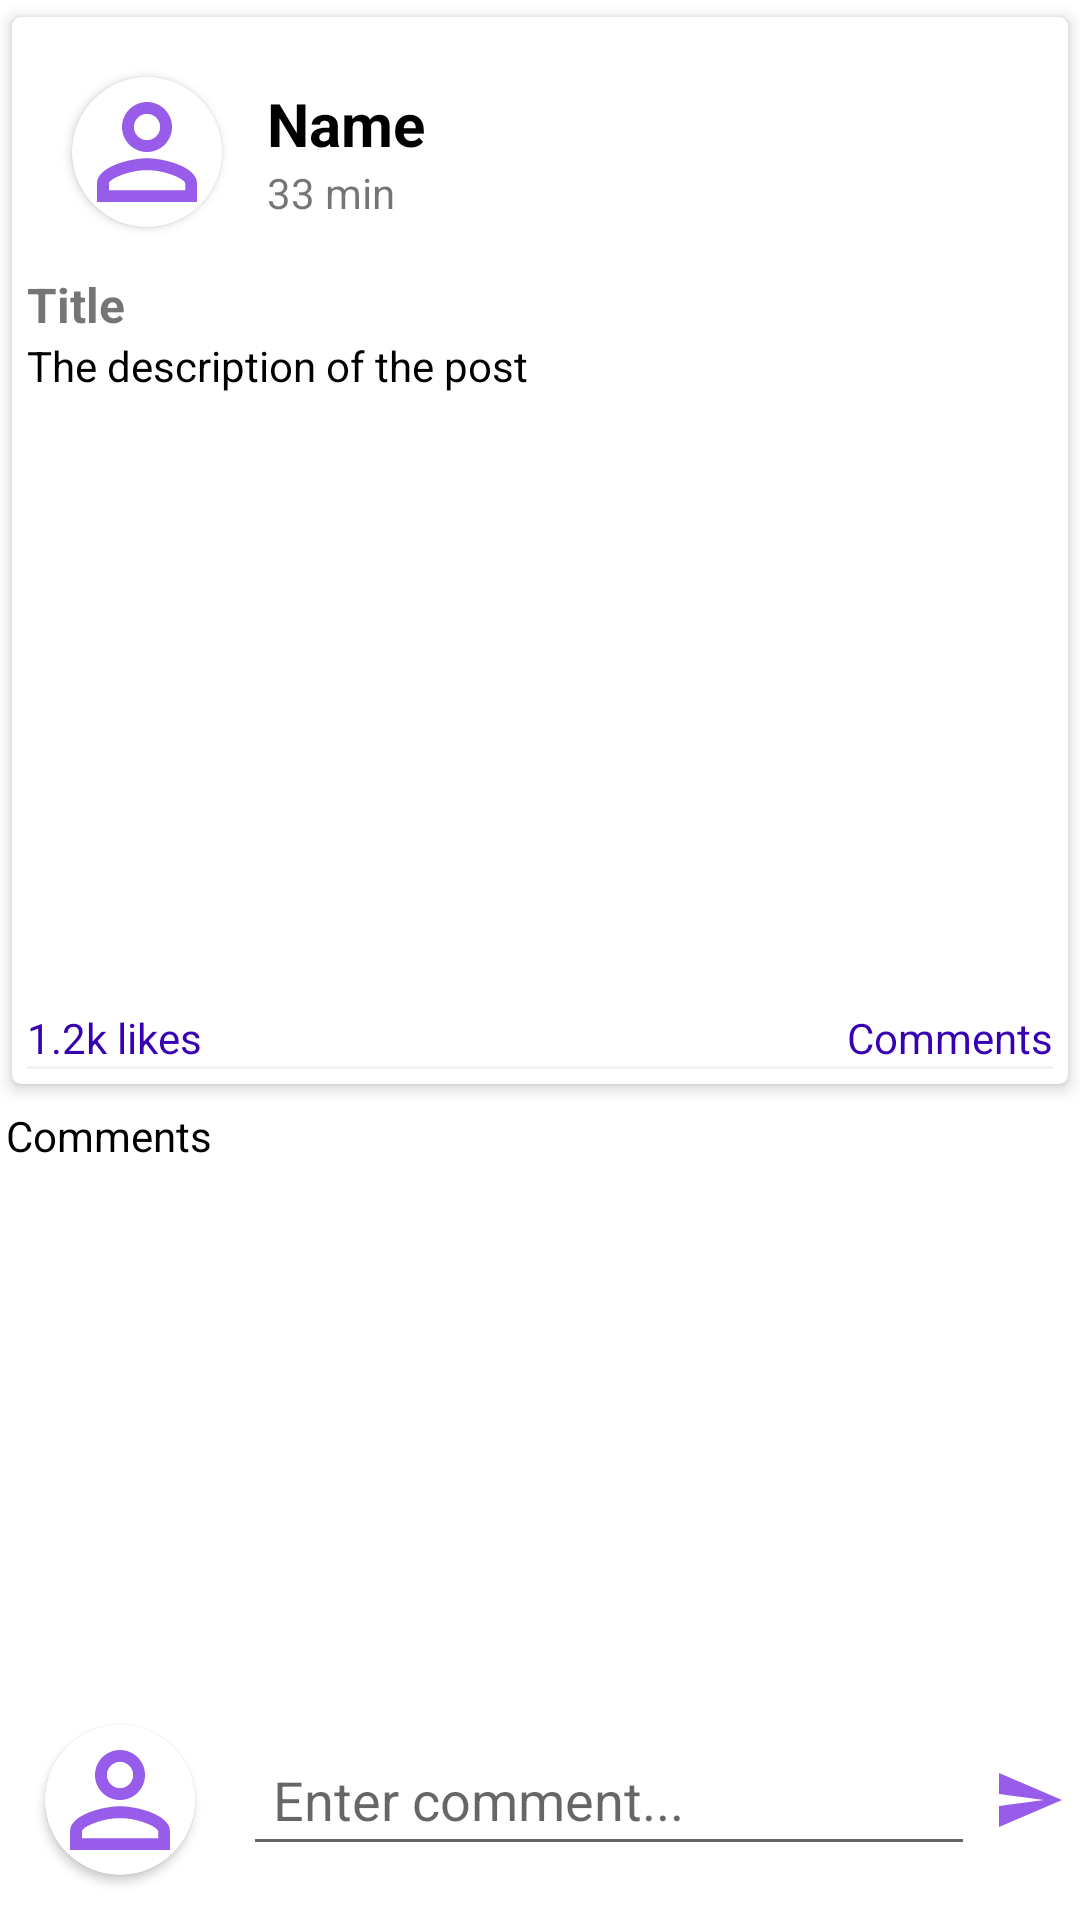

Screen size 1080*1920. Icon name, then its center in pixels as (x,y):
person: (134,156), (131,1800)
send: (1030,1800)
